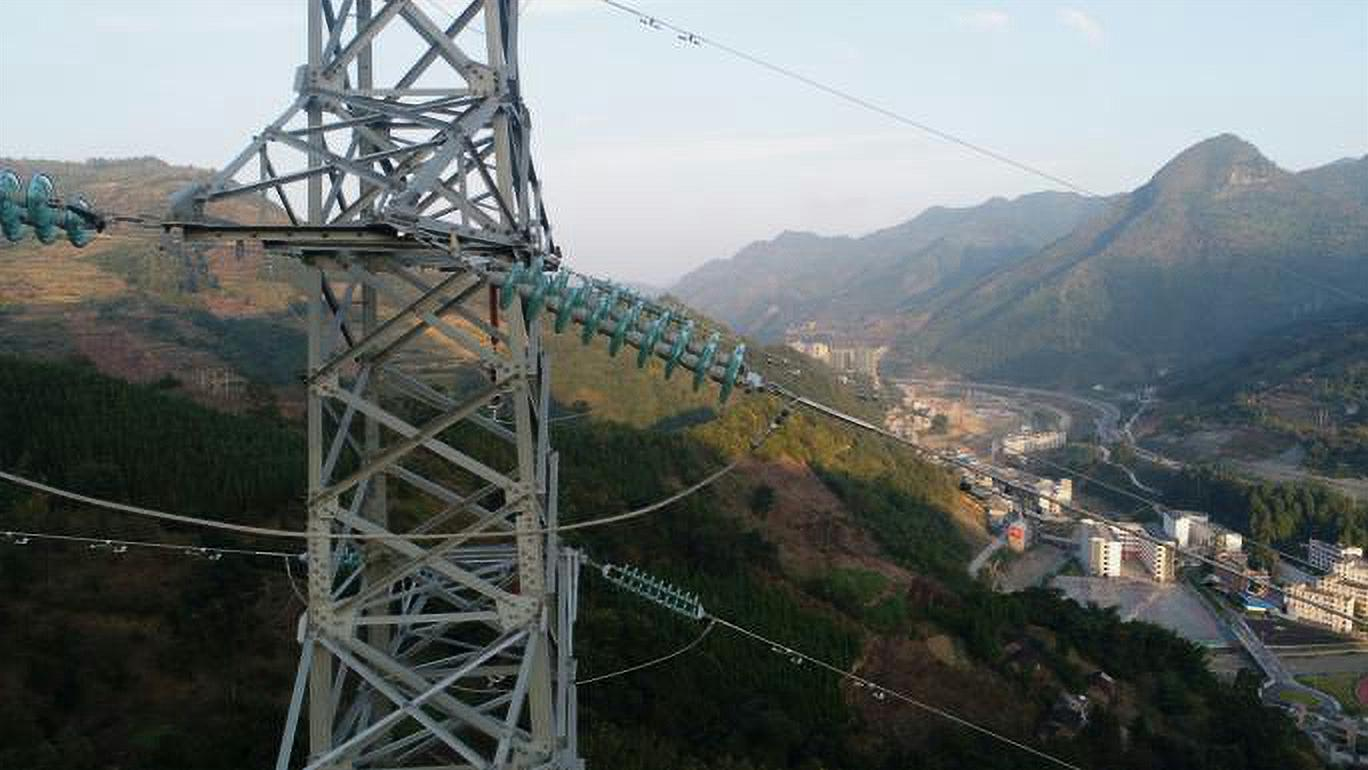insulator: (492, 245, 753, 410), (1, 164, 103, 255), (610, 560, 703, 624)
